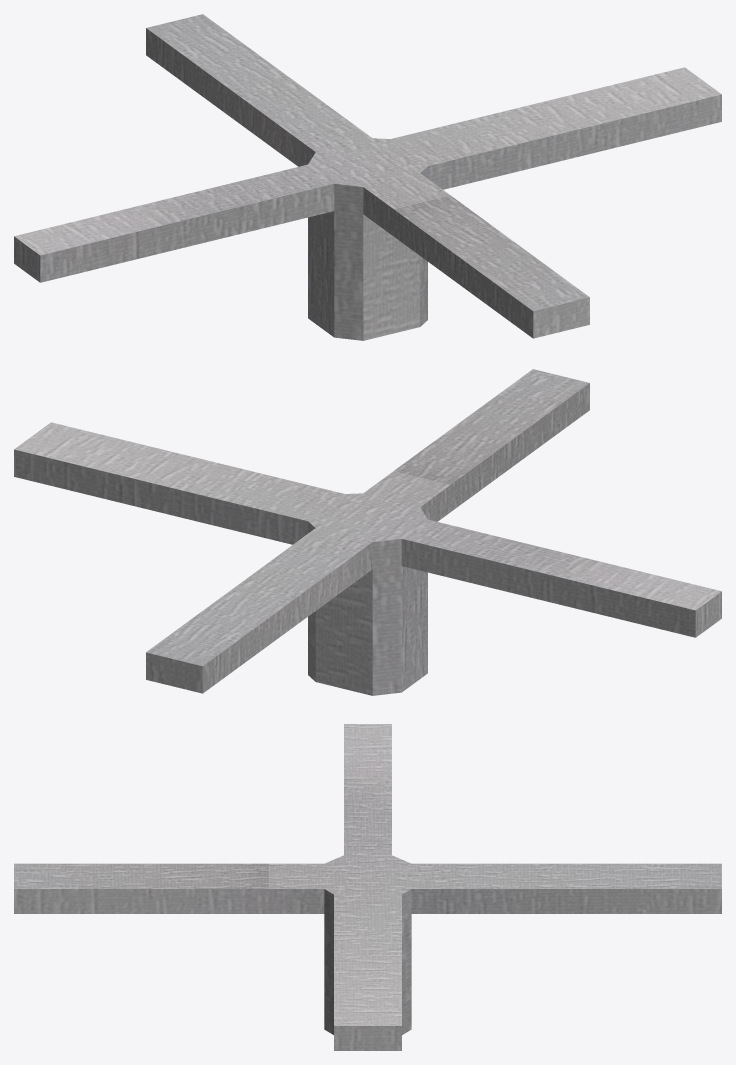
Rendered from Elices.obj.
3 views of the same model, one above another, from view 1: azimuth 30°, elevation 25°; view 2: azimuth 150°, elevation 25°; view 3: azimuth 270°, elevation 25° (orthographic). The views are drawn at different scales.
Visible parts, largest first — view 1: polySurface64 polySurface58; view 2: polySurface64 polySurface58; view 3: polySurface64 polySurface58.
Part boxes in pixels (x1,y1,x2,y2): polySurface64 polySurface58: (14, 14, 721, 340); polySurface64 polySurface58: (14, 369, 721, 695); polySurface64 polySurface58: (14, 724, 721, 1050).
Bounding box in the file's own units: 0.0643 × 0.014 × 0.0637.
Materials: 1 (1 with a texture image).
